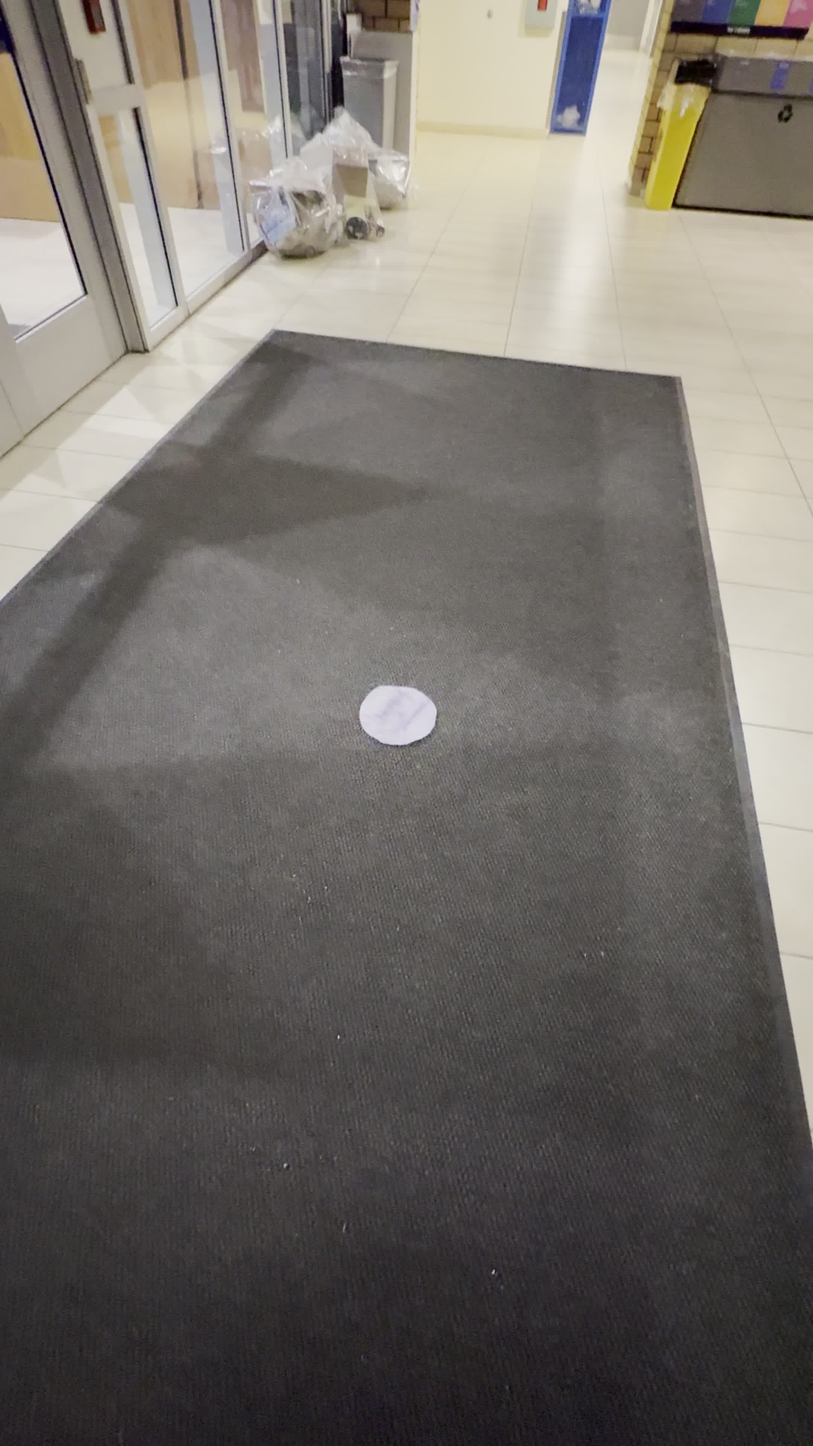Target: (358, 684, 437, 746)
